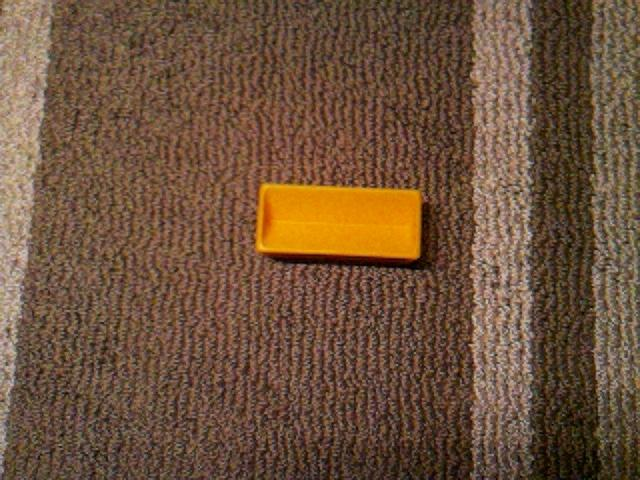yellow: (255, 181, 424, 264)
